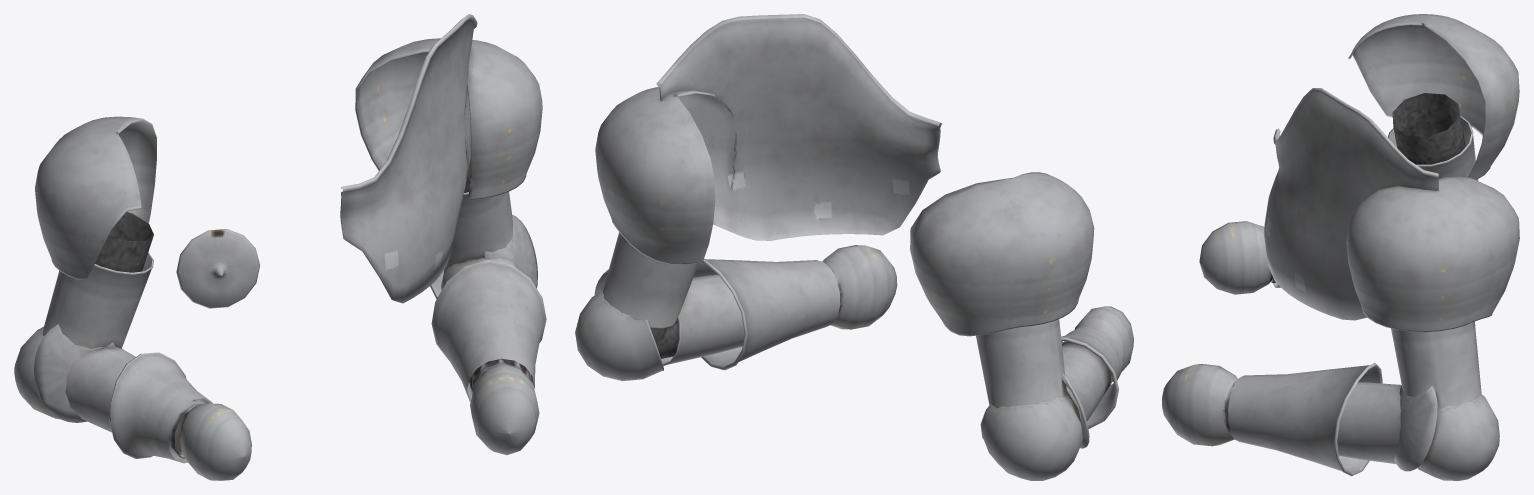
Rendered from arms_512.glb.
The picture shows the model from 3 angles, left to right: view 1: azimuth 30°, elevation 25°; view 2: azimuth 150°, elevation 25°; view 3: azimuth 270°, elevation 25°; orthographic projection. The views are drawn at different scales.
Parts seen in each view (by area): view 1: torso_pauldron_l, torso_arm_r, torso_arm_l, torso_pauldron_r; view 2: torso_pauldron_l, torso_arm_l, torso_pauldron_r, torso_arm_r; view 3: torso_pauldron_l, torso_arm_l, torso_pauldron_r, torso_arm_r.
Part boxes in pixels (x1,y1,x2,y2): torso_pauldron_l: (340,14,542,303); torso_arm_r: (14,212,251,480); torso_arm_l: (430,159,546,454); torso_pauldron_r: (35,116,259,308); torso_pauldron_l: (595,14,941,264); torso_arm_l: (575,229,897,381); torso_pauldron_r: (910,172,1094,336); torso_arm_r: (976,306,1133,480); torso_pauldron_l: (1263,88,1519,332); torso_arm_l: (1162,321,1499,480); torso_pauldron_r: (1348,14,1519,179); torso_arm_r: (1199,93,1478,294).
Size of the model in its own units: 0.8037 by 0.5568 by 0.5126.
1 material, 1 textured.
